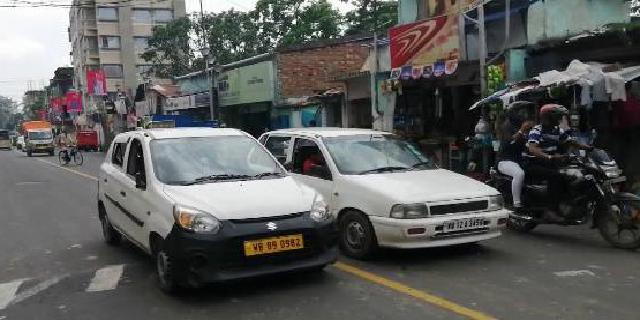Car: (96, 118, 346, 289), (254, 127, 508, 260)
Motorbike: (499, 102, 637, 254)
